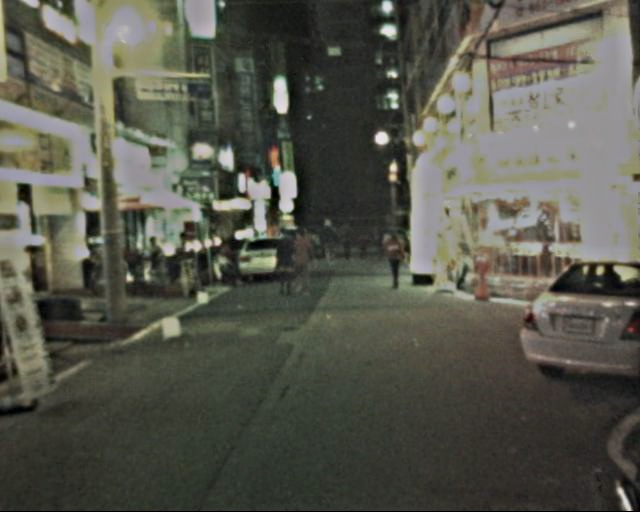person: (268, 226, 299, 297), (282, 223, 311, 295), (382, 224, 410, 287), (315, 215, 337, 265), (355, 222, 381, 258), (335, 219, 355, 261)
